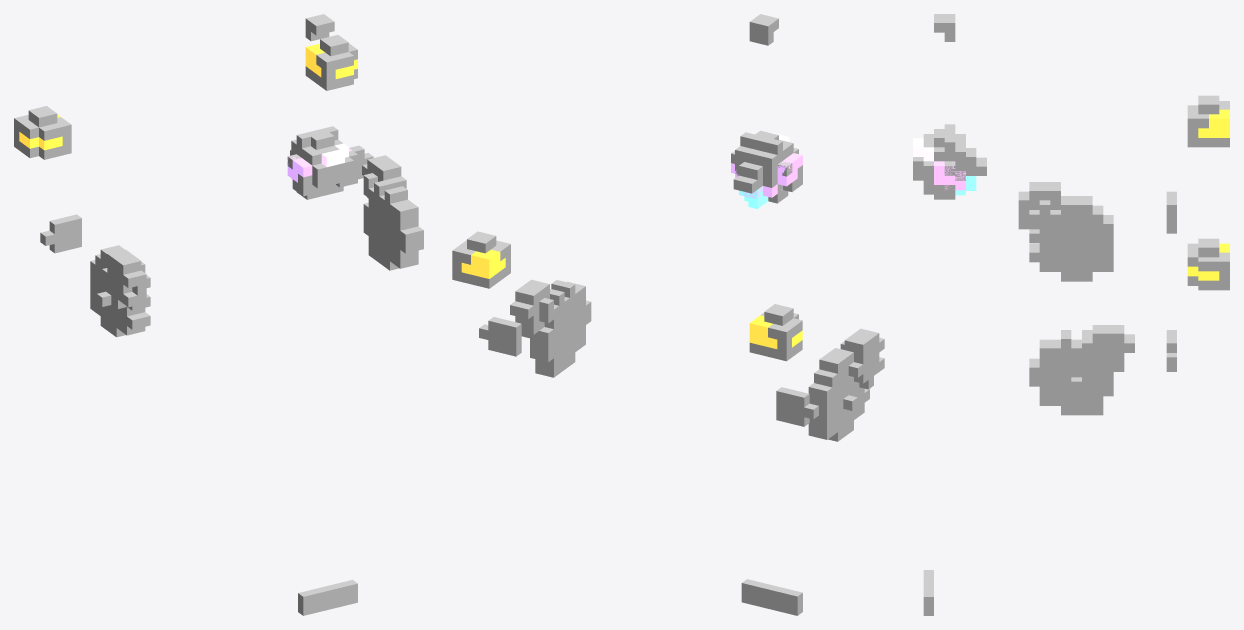
Rendered from FlamethrowerTurret_A_T5_Upgrades.fbx.
3 renders of one model, left to right at view 1: azimuth 30°, elevation 25°; view 2: azimuth 150°, elevation 25°; view 3: azimuth 270°, elevation 25°, orthographic.
Parts seen in each view (by area): view 1: FlamethrowerTurretT5U3Brass, FlamethrowerTurretT5U3Copper, FlamethrowerTurretT5U5Gold, FlamethrowerTurretT5U2Gunmetal, FlamethrowerTurretT5U1SteelLight, FlamethrowerTurretT5U2Gold, FlamethrowerTurretT5U3Gold, FlamethrowerTurretT5U2FlameOrangeGlow; view 2: FlamethrowerTurretT5U3Brass, FlamethrowerTurretT5U3Copper, FlamethrowerTurretT5U3Gold, FlamethrowerTurretT5U1SteelLight, FlamethrowerTurretT5U5Gold, FlamethrowerTurretT5U2Gold, FlamethrowerTurretT5U2FlameOrangeGlow, FlamethrowerTurretT5U2Gunmetal, FlamethrowerTurretT5U5RuneVioletGlow; view 3: FlamethrowerTurretT5U3Brass, FlamethrowerTurretT5U3Copper, FlamethrowerTurretT5U1SteelLight, FlamethrowerTurretT5U2Gunmetal, FlamethrowerTurretT5U2Gold, FlamethrowerTurretT5U5Gold, FlamethrowerTurretT5U3Gold, FlamethrowerTurretT5U2FlameOrangeGlow, FlamethrowerTurretT5U5RuneVioletGlow.
Boxes of the visible parts, <box> form: FlamethrowerTurretT5U3Brass: <box>90,181,423,337</box>; FlamethrowerTurretT5U3Copper: <box>102,155,406,308</box>; FlamethrowerTurretT5U5Gold: <box>298,14,357,615</box>; FlamethrowerTurretT5U2Gunmetal: <box>14,38,357,145</box>; FlamethrowerTurretT5U1SteelLight: <box>287,126,353,199</box>; FlamethrowerTurretT5U2Gold: <box>14,35,357,159</box>; FlamethrowerTurretT5U3Gold: <box>40,145,373,287</box>; FlamethrowerTurretT5U2FlameOrangeGlow: <box>19,43,357,150</box>; FlamethrowerTurretT5U3Brass: <box>530,280,869,441</box>; FlamethrowerTurretT5U3Copper: <box>510,279,884,389</box>; FlamethrowerTurretT5U3Gold: <box>479,317,844,426</box>; FlamethrowerTurretT5U1SteelLight: <box>731,130,792,203</box>; FlamethrowerTurretT5U5Gold: <box>741,14,802,615</box>; FlamethrowerTurretT5U2Gold: <box>452,233,802,361</box>; FlamethrowerTurretT5U2FlameOrangeGlow: <box>461,249,802,348</box>; FlamethrowerTurretT5U2Gunmetal: <box>452,231,802,351</box>; FlamethrowerTurretT5U5RuneVioletGlow: <box>731,151,802,199</box>; FlamethrowerTurretT5U3Brass: <box>1029,196,1113,415</box>; FlamethrowerTurretT5U3Copper: <box>1018,182,1134,381</box>; FlamethrowerTurretT5U1SteelLight: <box>913,124,976,199</box>; FlamethrowerTurretT5U2Gunmetal: <box>1187,95,1229,280</box>; FlamethrowerTurretT5U2Gold: <box>1187,95,1229,290</box>; FlamethrowerTurretT5U5Gold: <box>913,14,955,615</box>; FlamethrowerTurretT5U3Gold: <box>1029,191,1176,371</box>; FlamethrowerTurretT5U2FlameOrangeGlow: <box>1187,109,1229,280</box>; FlamethrowerTurretT5U5RuneVioletGlow: <box>934,161,965,190</box>.
Size of the model in its own units: 450 by 762 by 375.
